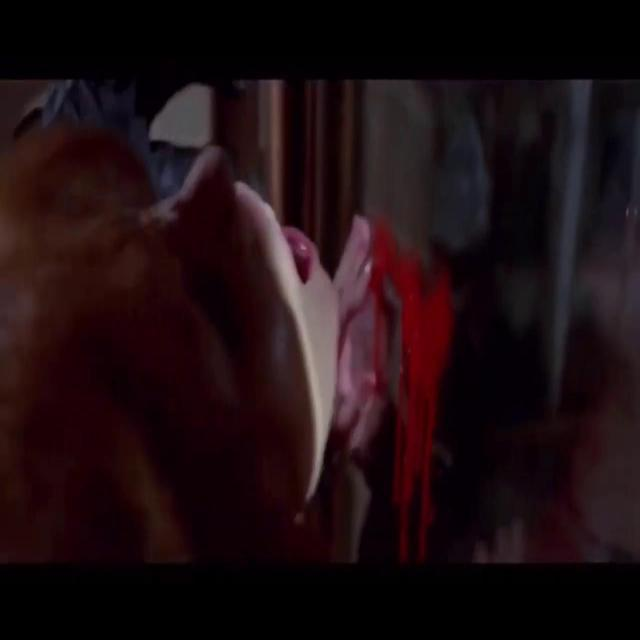flood: (326, 204, 508, 558)
